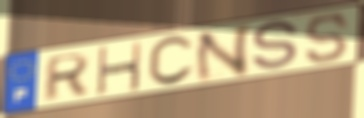C: (145, 34, 196, 89)
H: (95, 39, 144, 98)
N: (194, 22, 255, 85)
R: (40, 51, 93, 104)
S: (249, 18, 301, 74), (304, 12, 350, 66)
